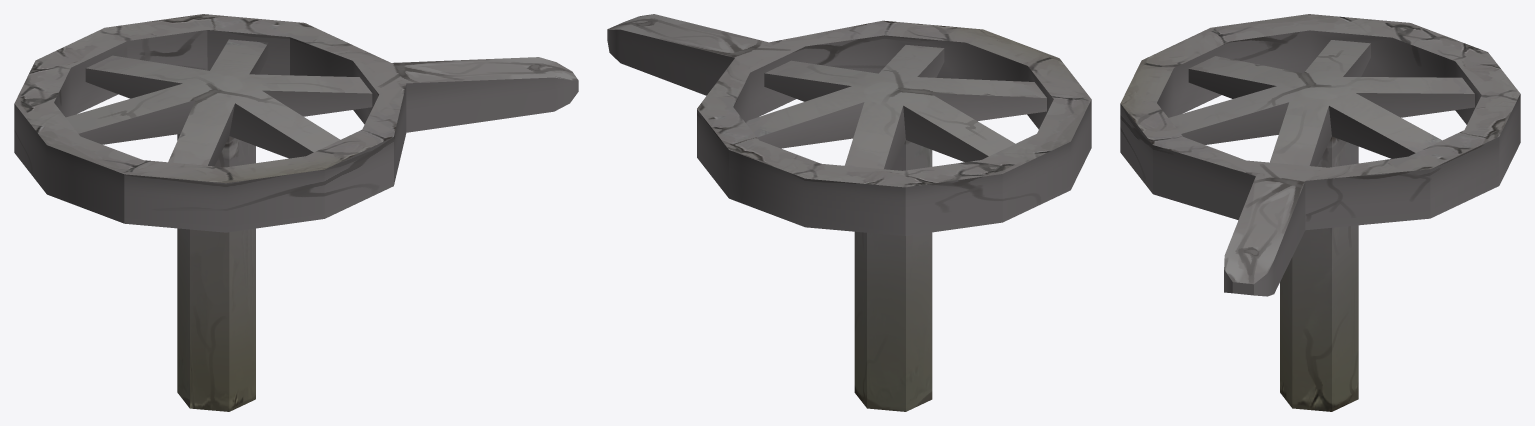
File: reba_reba.FBX
3 renders of one model, left to right at view 1: azimuth 30°, elevation 25°; view 2: azimuth 150°, elevation 25°; view 3: azimuth 270°, elevation 25°, orthographic.
Parts seen in each view (by area): view 1: Tube002; view 2: Tube002; view 3: Tube002.
Boxes of the visible parts, box(x1,y1,x2,y2) form: Tube002: box(14, 14, 578, 411); Tube002: box(607, 14, 1091, 411); Tube002: box(1120, 14, 1520, 411).
Size of the model in its own units: 68.97 by 40.88 by 48.06.
